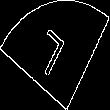L_SW: (35, 25, 75, 85)
